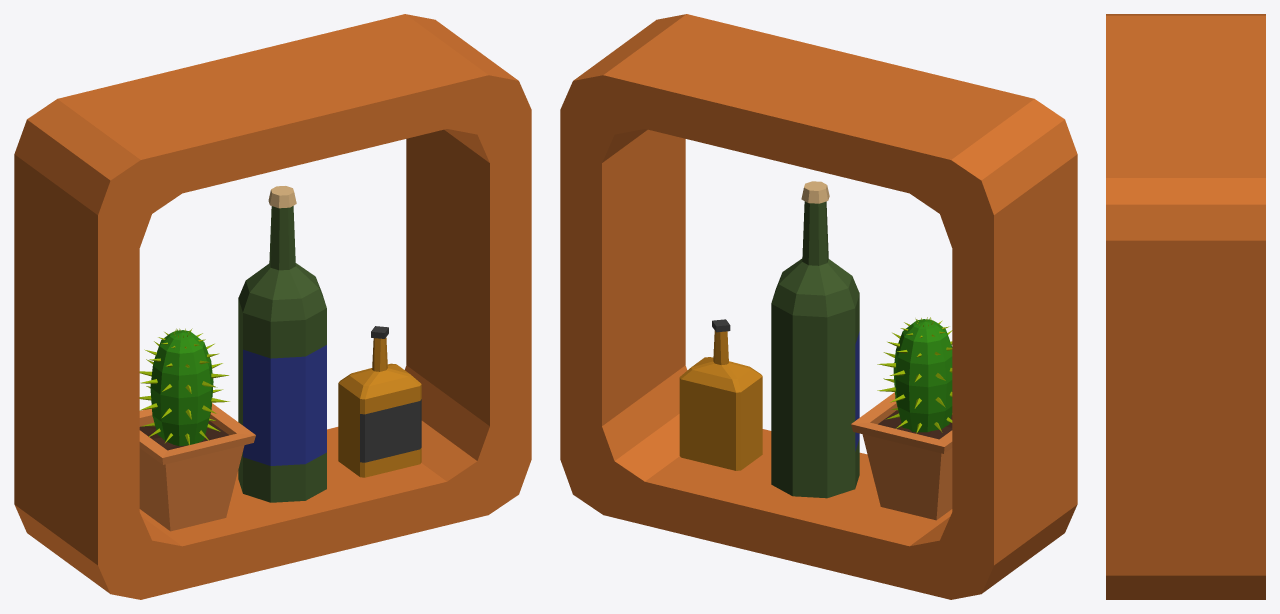
File: C_Drinks_3.fbx
The picture shows the model from 3 angles, left to right: view 1: azimuth 30°, elevation 25°; view 2: azimuth 150°, elevation 25°; view 3: azimuth 270°, elevation 25°; orthographic projection. The views are drawn at different scales.
Visible parts, largest first — view 1: C_Drinks_3; view 2: C_Drinks_3; view 3: C_Drinks_3.
Boxes of the visible parts, x1,y1,x2,y2 form: C_Drinks_3: (14, 14, 531, 599); C_Drinks_3: (560, 14, 1077, 599); C_Drinks_3: (1106, 14, 1265, 599).
Bounding box in the file's own units: 527 × 176 × 511.
